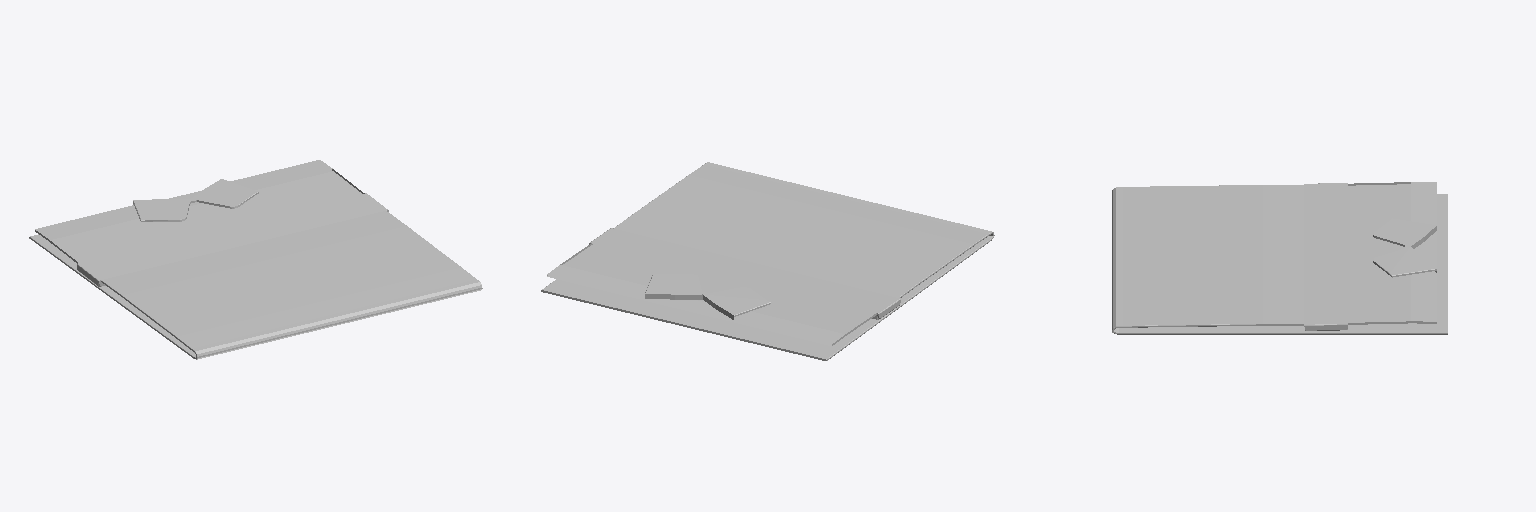
Rendered from polo.obj.
3 renders of one model, left to right at view 1: azimuth 30°, elevation 25°; view 2: azimuth 150°, elevation 25°; view 3: azimuth 270°, elevation 25°, orthographic.
Visible parts, largest first — view 1: polo; view 2: polo; view 3: polo.
Boxes of the visible parts, <box> form: polo: <box>29,160,482,359</box>; polo: <box>541,162,994,360</box>; polo: <box>1112,182,1447,334</box>.
Bounding box in the file's own units: 2.03 × 0.1246 × 2.04.